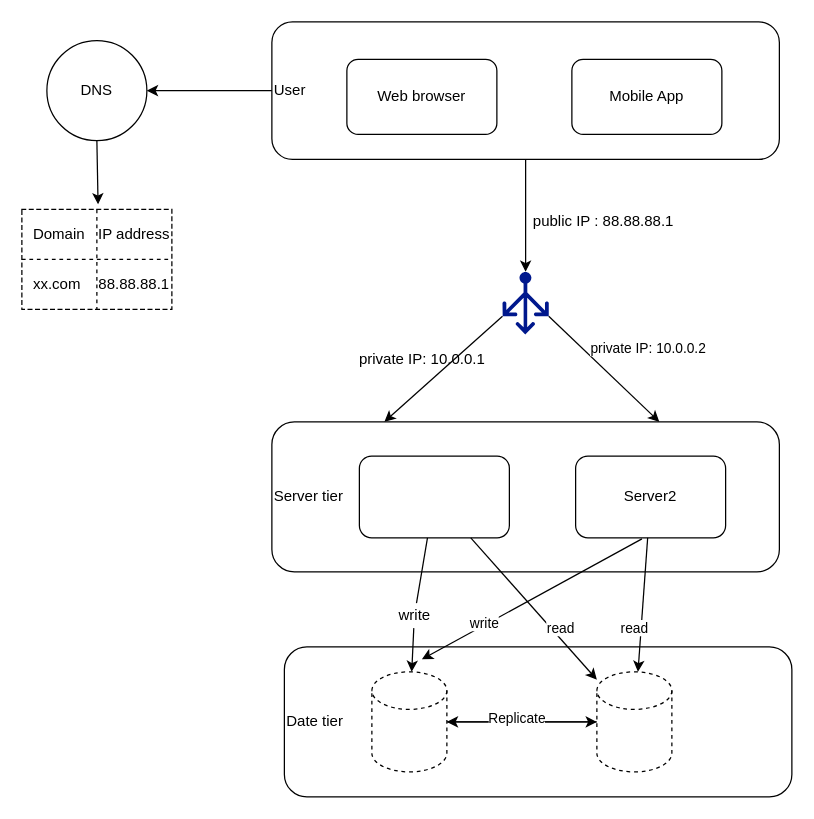
The diagram is 814 pixels wide and 819 high, and some of its shapes have lost their labels. Each missing label, with the centre of its shape:
"Master DB" goes at [409,721].
"Server1" goes at [433,496].
"Slave DB" goes at [634,721].
